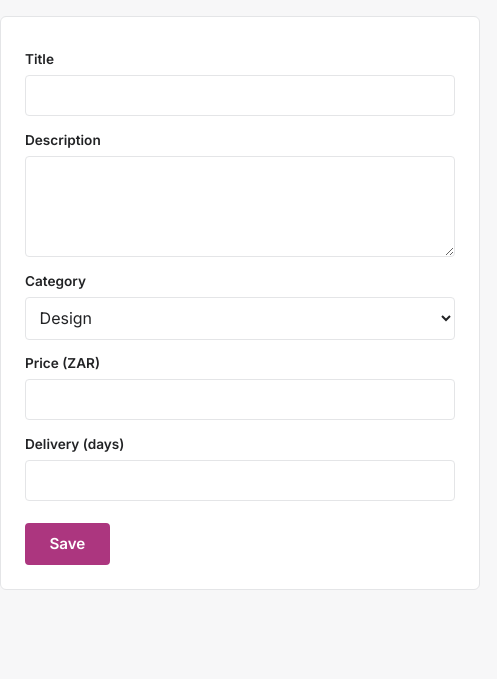
Test: GigForm › shows a validation error and does not submit when the title is too short
Type "ab" into the field labelled "Title".
click(240, 96); type("ab")  # box [25, 75, 455, 116]
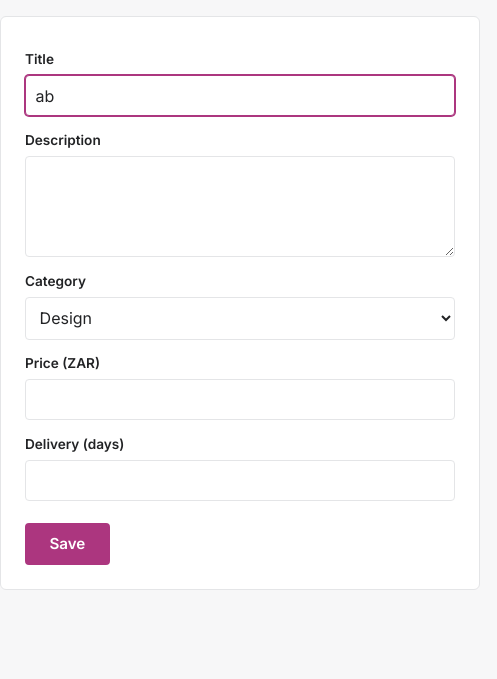
Type "A valid description here." into the text box labelled "Description".
click(240, 206); type("A valid description here.")  # box [25, 156, 455, 257]
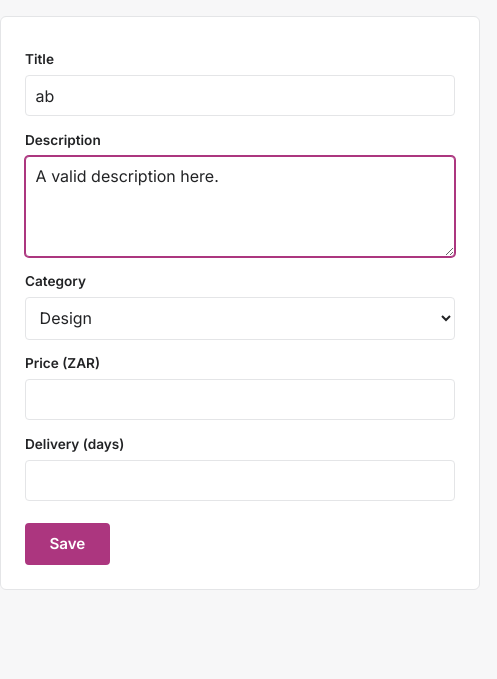
Type "100" into the number field labelled "Price (ZAR)".
click(240, 400); type("100")  # box [25, 379, 455, 420]
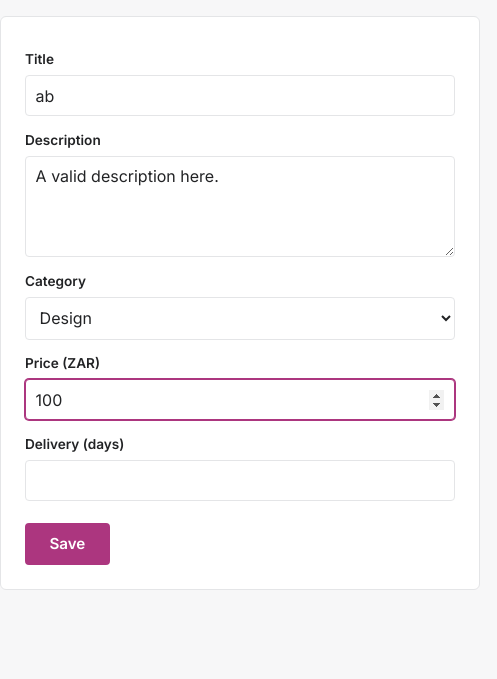
Type "3" into the number field labelled "Delivery (days)".
click(240, 481); type("3")  # box [25, 460, 455, 501]
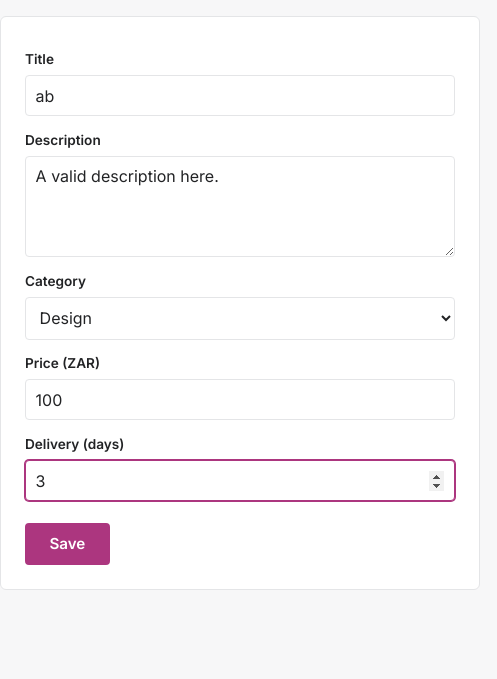
Click the button "Save".
click(67, 544)  # box [25, 523, 110, 565]
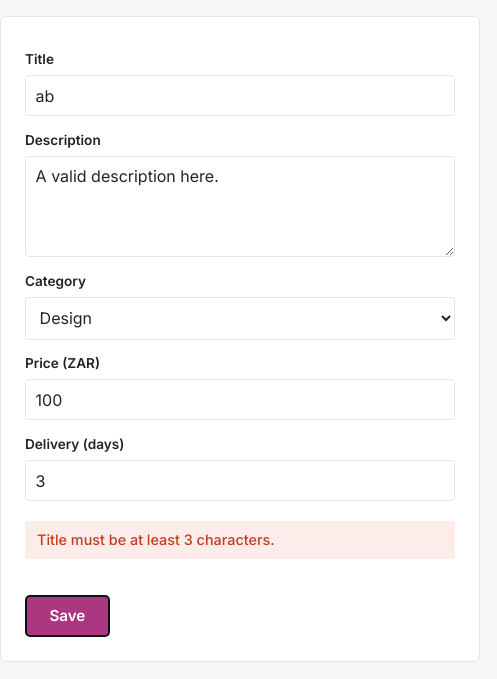
Expected: the message shows "Title must be at least 3 characters", [37, 531, 275, 548]
